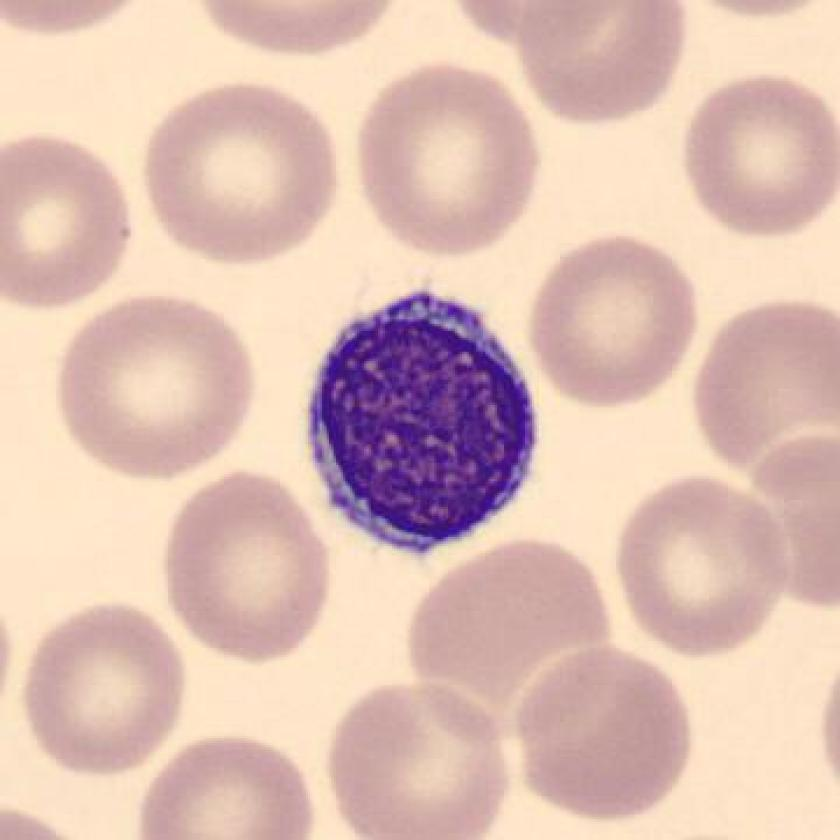lymphocyte: (293, 281, 561, 573)
